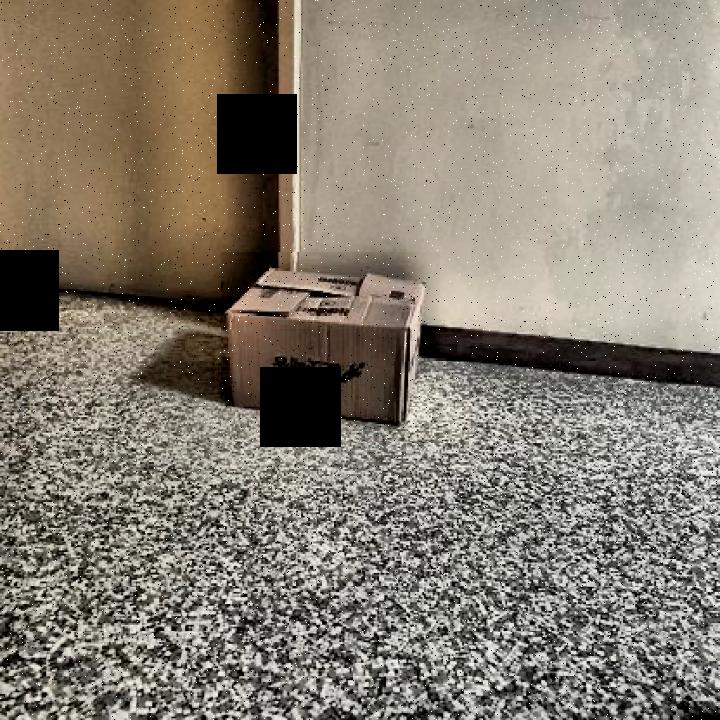box: (221, 252, 441, 442)
